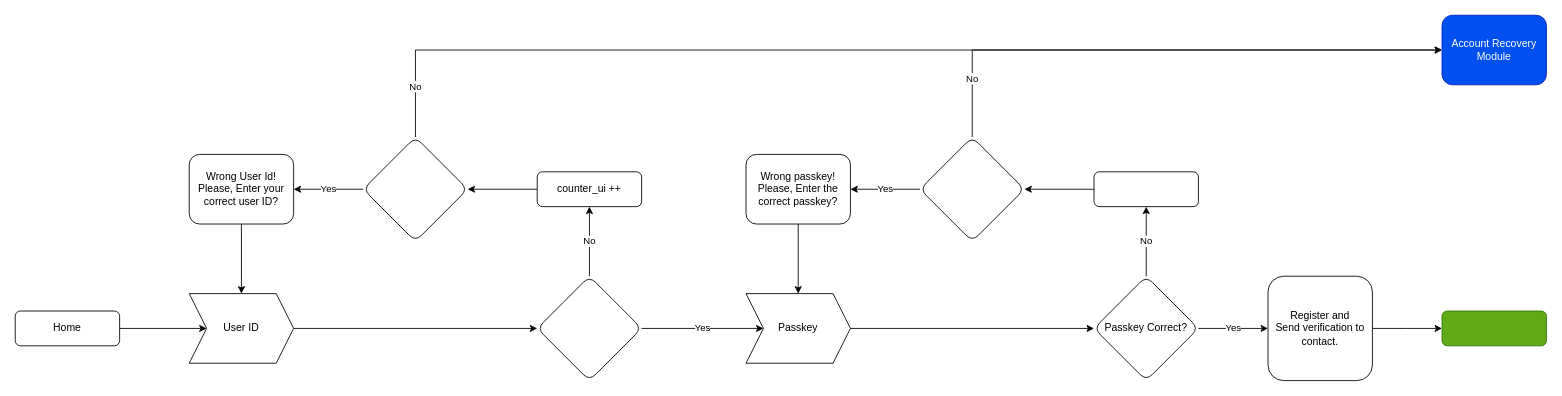
This 1562x396 diagram has some shape labels left out. The centre of each missing label's shape, as x and y in pixels:
counter_pk ++: the point at 1145,189
counter_pk <= max_noof_trials?: the point at 971,188
counter_ui <= max_noof_trials?: the point at 415,188
Return Successful: the point at 1493,328
User ID exists?: the point at 589,328
